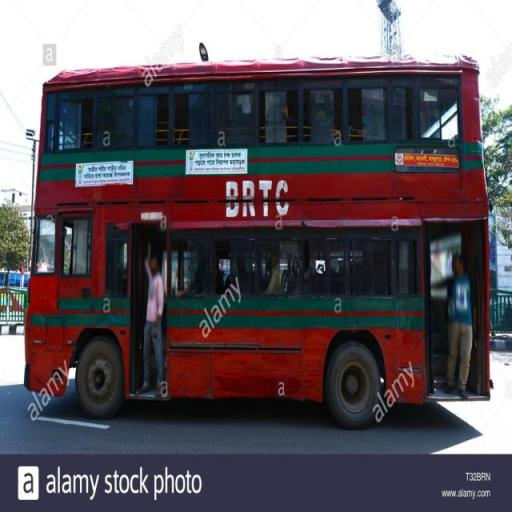onibus: (23, 54, 491, 432)
